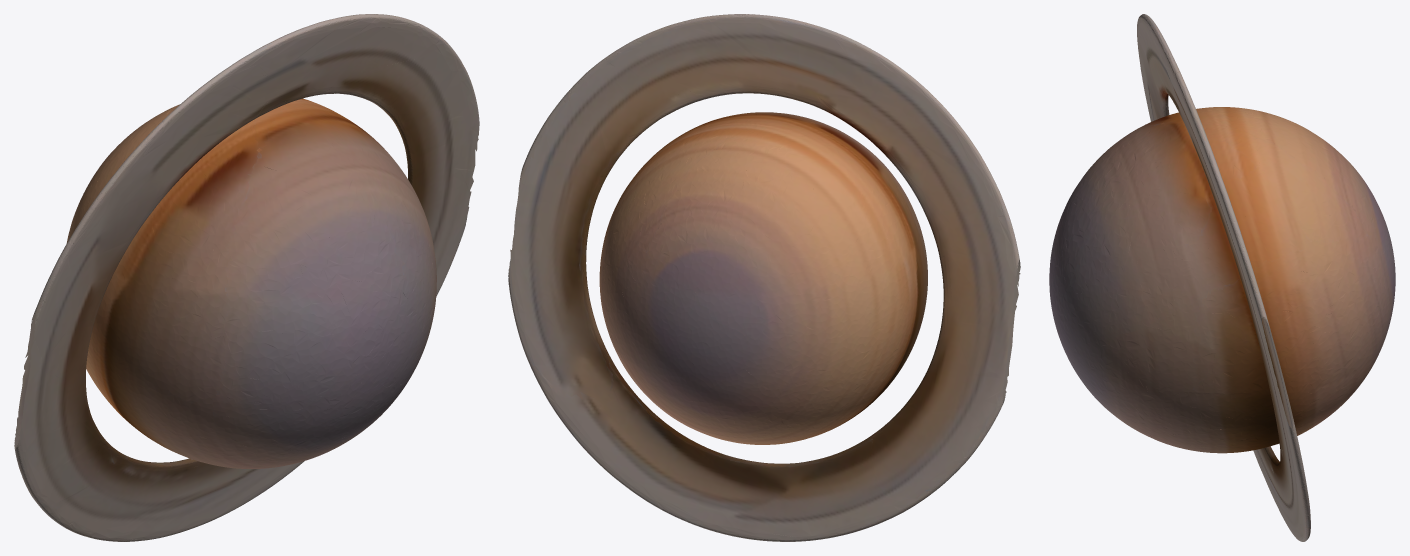
The model's file is planet_20.glb.
3 renders of one model, left to right at view 1: azimuth 30°, elevation 25°; view 2: azimuth 150°, elevation 25°; view 3: azimuth 270°, elevation 25°, orthographic. The views are drawn at different scales.
Parts seen in each view (by area): view 1: geometry_0; view 2: geometry_0; view 3: geometry_0.
Part boxes in pixels (box(x1,y1,x2,y2)): geometry_0: box(14, 14, 479, 541); geometry_0: box(508, 14, 1020, 541); geometry_0: box(1049, 14, 1395, 541).
Bounding box in the file's own units: 0.3349 × 0.3377 × 0.2154.
Materials: 1 (1 with a texture image).
